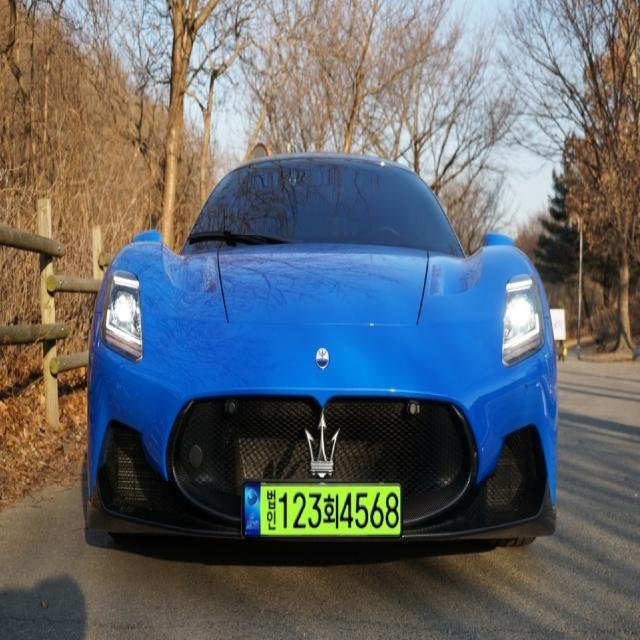car: (232, 459, 434, 562)
